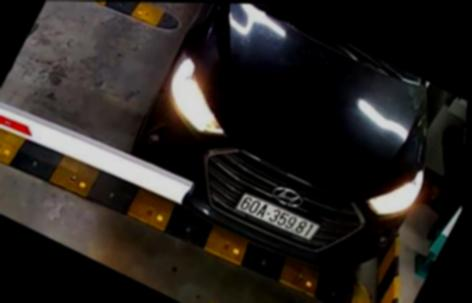License_Plate: (235, 192, 323, 245)
